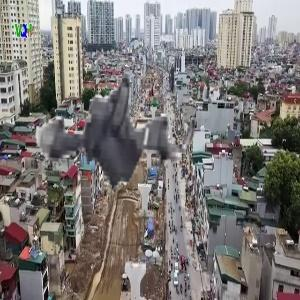drone: (20, 74, 201, 255)
